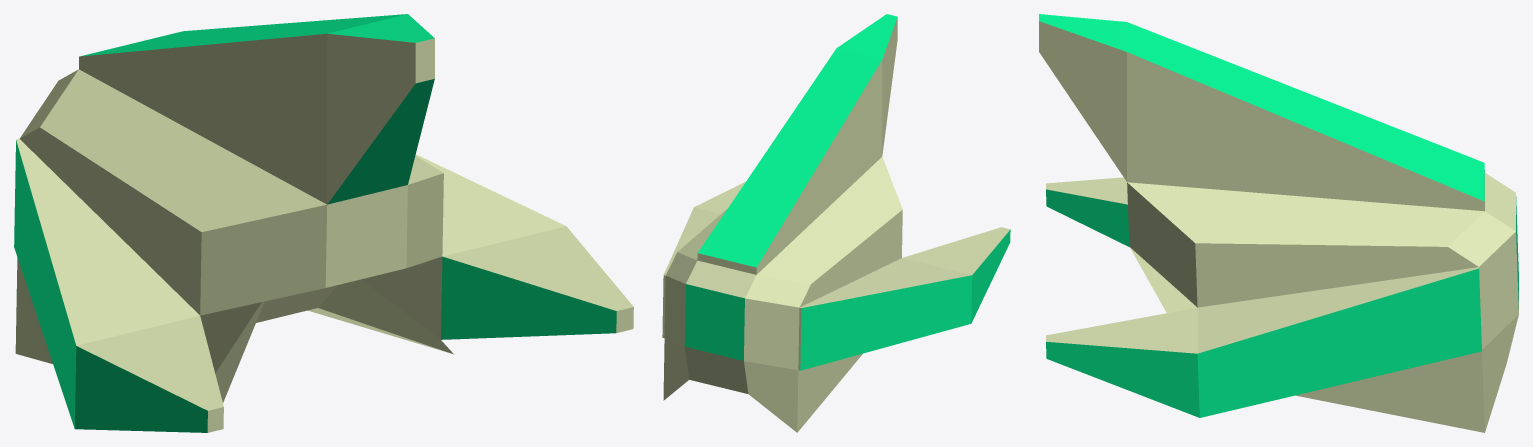
The model's file is Worker.fbx.
3 renders of one model, left to right at view 1: azimuth 30°, elevation 25°; view 2: azimuth 150°, elevation 25°; view 3: azimuth 270°, elevation 25°, orthographic. The views are drawn at different scales.
Parts seen in each view (by area): view 1: Worker; view 2: Worker; view 3: Worker.
Part boxes in pixels (left/top/right/bottom): Worker: left=14, top=14, right=633, bottom=432; Worker: left=662, top=14, right=1010, bottom=432; Worker: left=1039, top=14, right=1518, bottom=432.
Bounding box in the file's own units: 151 × 145 × 168.
